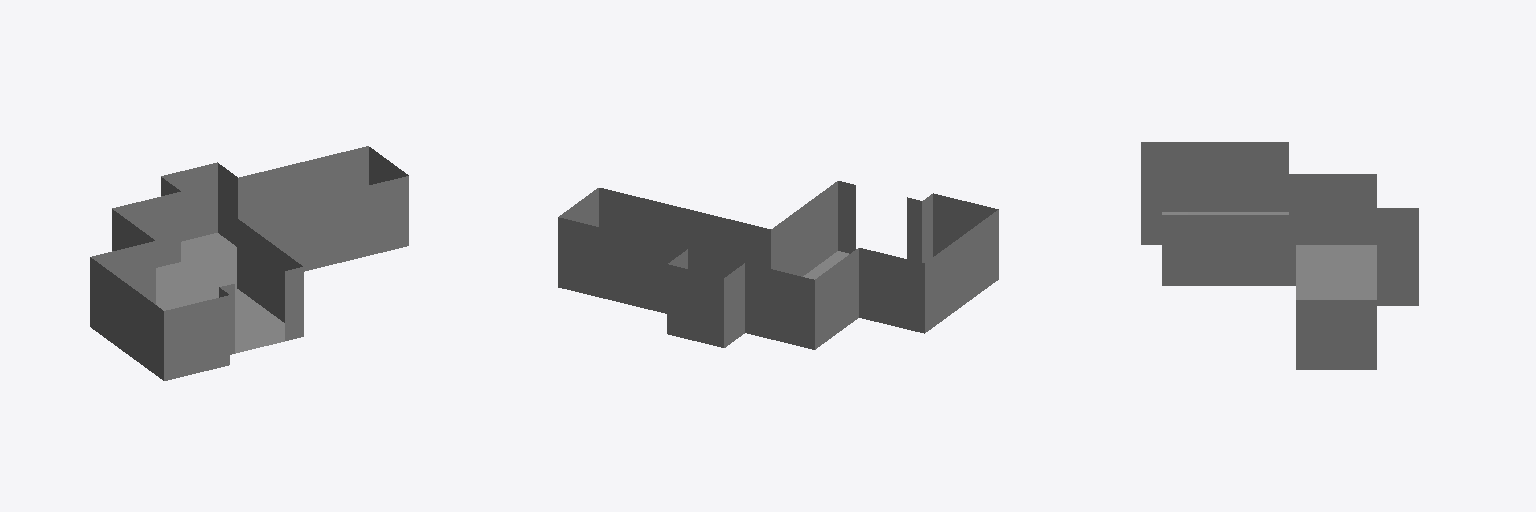
File: lower_floor.obj
The picture shows the model from 3 angles: view 1: azimuth 30°, elevation 25°; view 2: azimuth 150°, elevation 25°; view 3: azimuth 270°, elevation 25°; orthographic projection.
Visible parts, largest first — view 1: Plane01; view 2: Plane01; view 3: Plane01.
Part boxes in pixels (left/top/right/bottom): Plane01: left=90, top=146, right=408, bottom=380; Plane01: left=558, top=181, right=998, bottom=349; Plane01: left=1141, top=142, right=1418, bottom=369.
Bounding box in the file's own units: 568 × 118 × 424.